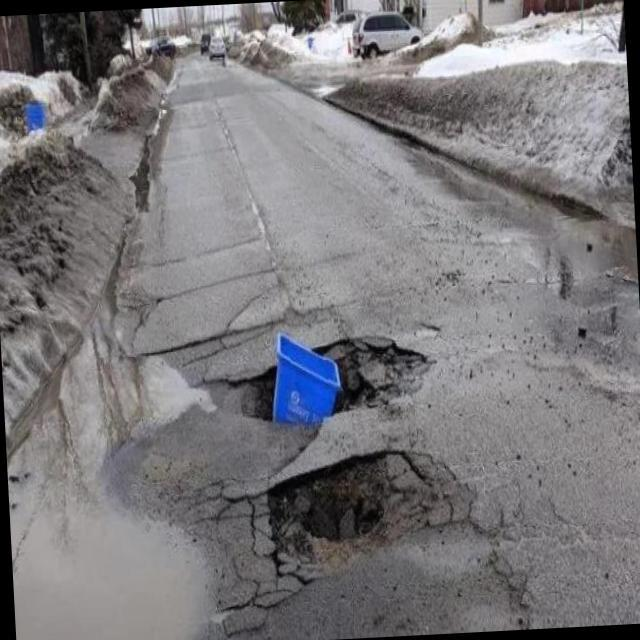Pothole: (265, 445, 472, 582), (317, 336, 434, 411), (578, 287, 629, 394), (239, 369, 273, 419)
